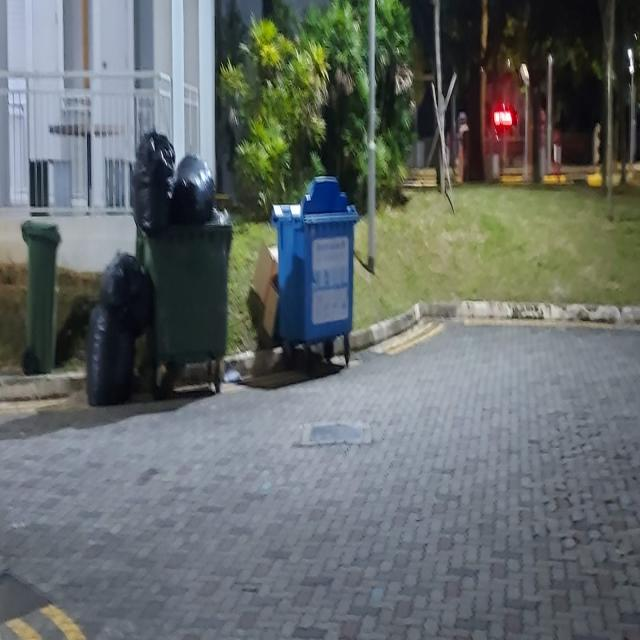bin_empty: (136, 160, 238, 387), (268, 176, 358, 362), (20, 220, 63, 374)
bulk_waste: (248, 240, 280, 343)
normal_waste: (83, 254, 150, 407), (130, 128, 176, 234), (170, 152, 216, 226), (208, 203, 230, 226)
